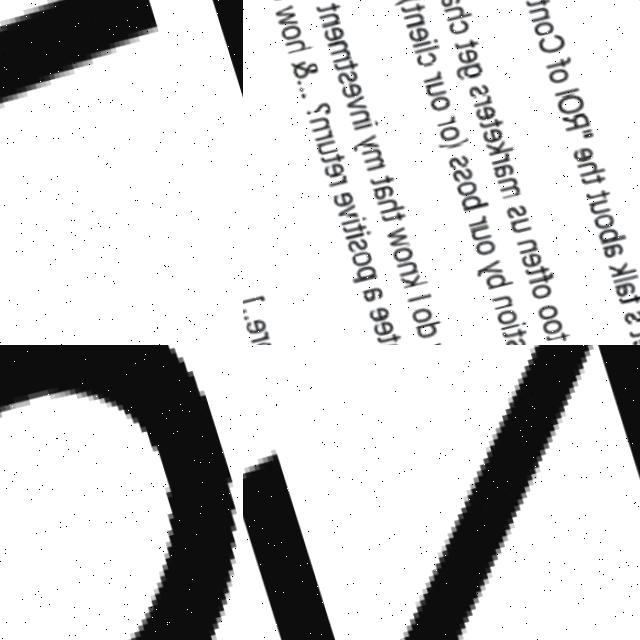A: (487, 156, 514, 177), (597, 234, 623, 255), (367, 179, 392, 199), (357, 281, 382, 301), (609, 273, 633, 293)
B: (592, 217, 622, 240), (479, 265, 510, 287), (456, 186, 487, 208)
C: (534, 26, 564, 50), (444, 13, 469, 33), (411, 46, 436, 65)
D: (410, 315, 440, 337)
E: (454, 42, 479, 62), (404, 21, 429, 41), (320, 20, 345, 40), (568, 139, 592, 159), (516, 246, 540, 266), (477, 121, 501, 141), (318, 157, 342, 177), (336, 78, 361, 97), (327, 186, 352, 205), (471, 99, 494, 119), (368, 315, 391, 335), (364, 301, 387, 321), (243, 315, 262, 334), (626, 328, 640, 345)
F: (541, 50, 572, 67)
G: (453, 56, 483, 78)
H: (572, 151, 603, 173), (374, 191, 404, 213), (282, 32, 312, 54), (440, 0, 471, 18)
I: (339, 226, 370, 240), (494, 314, 525, 328), (348, 115, 378, 129), (523, 267, 551, 281), (408, 32, 438, 44), (337, 211, 364, 224), (551, 80, 578, 93), (402, 289, 429, 300)
J: (0, 0, 243, 345)
K: (602, 251, 636, 274), (483, 132, 513, 154), (396, 265, 426, 287)
L: (608, 265, 635, 278), (412, 40, 438, 51)
M: (325, 35, 351, 62), (494, 170, 520, 196), (358, 143, 384, 169)
N: (511, 231, 535, 251), (400, 5, 424, 25), (315, 7, 339, 27), (392, 255, 415, 275), (345, 104, 368, 124), (486, 289, 510, 308), (306, 111, 328, 131), (524, 0, 548, 18), (373, 337, 398, 345)
O: (552, 87, 584, 113), (531, 296, 557, 318), (588, 206, 613, 226), (543, 60, 568, 80), (451, 175, 476, 195), (529, 13, 553, 33), (536, 312, 560, 332), (525, 277, 549, 297), (470, 234, 494, 254), (434, 119, 458, 139), (426, 89, 450, 109), (346, 246, 370, 266), (492, 302, 515, 322), (406, 301, 429, 321), (387, 241, 411, 260), (278, 21, 300, 40), (245, 338, 270, 345)
P: (345, 260, 375, 282)
Q: (0, 345, 243, 640)
R: (557, 105, 588, 128), (461, 210, 485, 226), (487, 146, 509, 162), (324, 169, 345, 185), (431, 110, 453, 124), (245, 328, 267, 342), (470, 90, 491, 104), (419, 66, 440, 80), (310, 126, 330, 139), (546, 340, 568, 345)
S: (331, 64, 358, 85), (446, 160, 471, 180), (444, 149, 468, 169), (617, 301, 640, 321), (503, 197, 526, 217), (464, 76, 487, 96), (342, 232, 366, 251), (498, 330, 523, 345)
T: (496, 321, 524, 338), (540, 325, 567, 341), (577, 167, 603, 182), (330, 56, 356, 71), (614, 286, 639, 301), (582, 182, 607, 197), (378, 207, 403, 222), (339, 218, 364, 233), (317, 149, 342, 164), (452, 34, 478, 48), (372, 329, 398, 343), (397, 0, 424, 13), (520, 260, 545, 273), (476, 113, 501, 126), (366, 170, 391, 183), (622, 318, 640, 336), (313, 0, 338, 11), (522, 0, 548, 3)
U: (420, 75, 445, 95), (465, 219, 489, 239), (505, 211, 528, 231), (313, 135, 336, 155), (584, 192, 608, 211)
V: (341, 92, 365, 111), (333, 199, 355, 219)
W: (381, 222, 407, 248), (271, 0, 297, 25), (415, 337, 442, 345)
Y: (469, 253, 499, 275), (347, 128, 377, 150)
Z: (243, 345, 640, 640)
